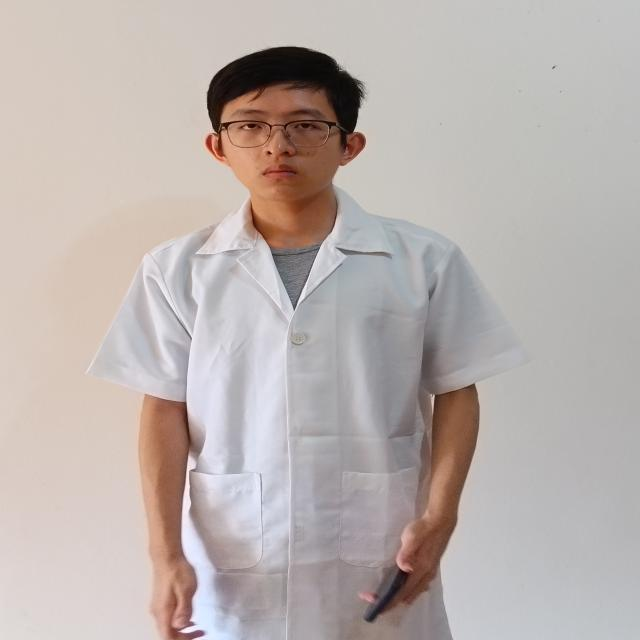person_with_labcoat: (89, 47, 527, 640)
